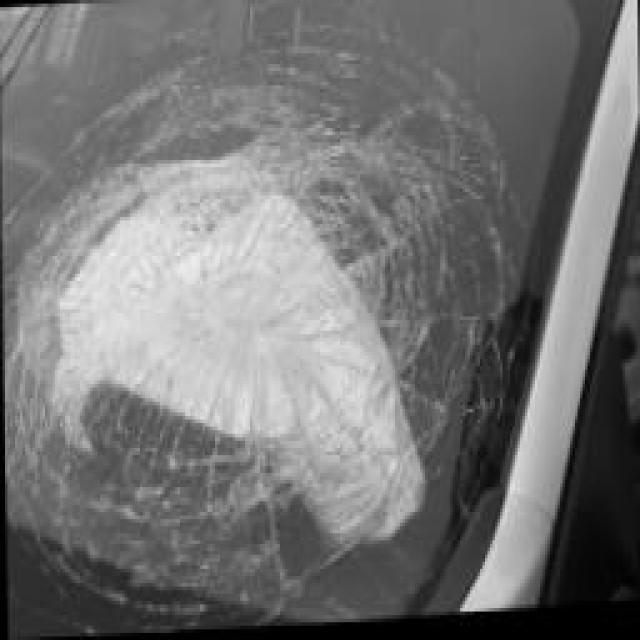Windshield: (0, 0, 553, 640)
